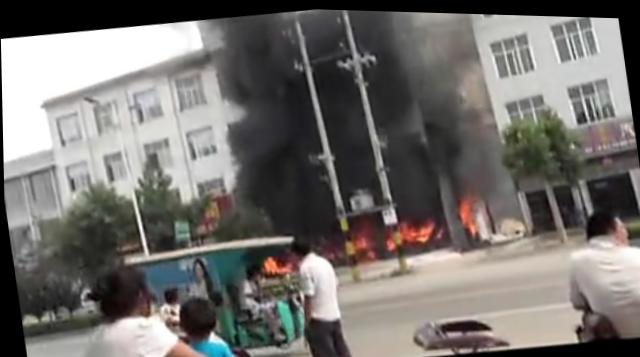fire: (457, 194, 476, 232), (414, 217, 433, 239), (350, 226, 367, 245), (398, 217, 414, 237), (262, 254, 277, 272), (381, 235, 393, 248)
